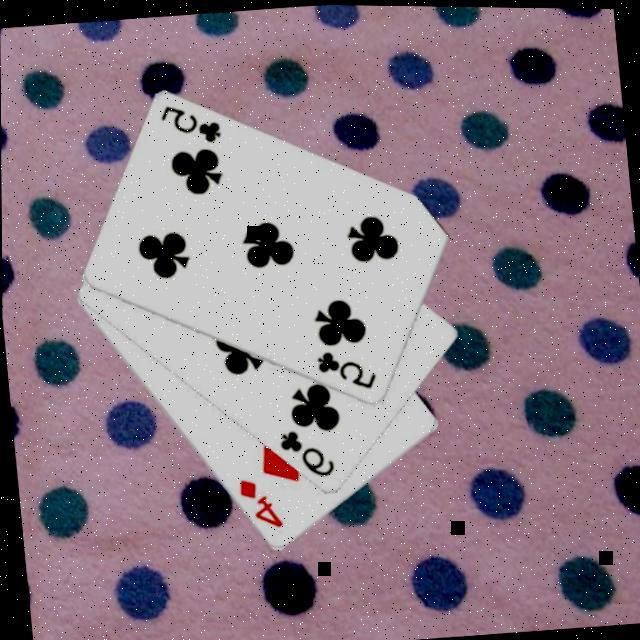4D: (234, 469, 285, 531)
5C: (156, 94, 226, 148), (312, 340, 380, 394)
6C: (274, 421, 338, 482)
